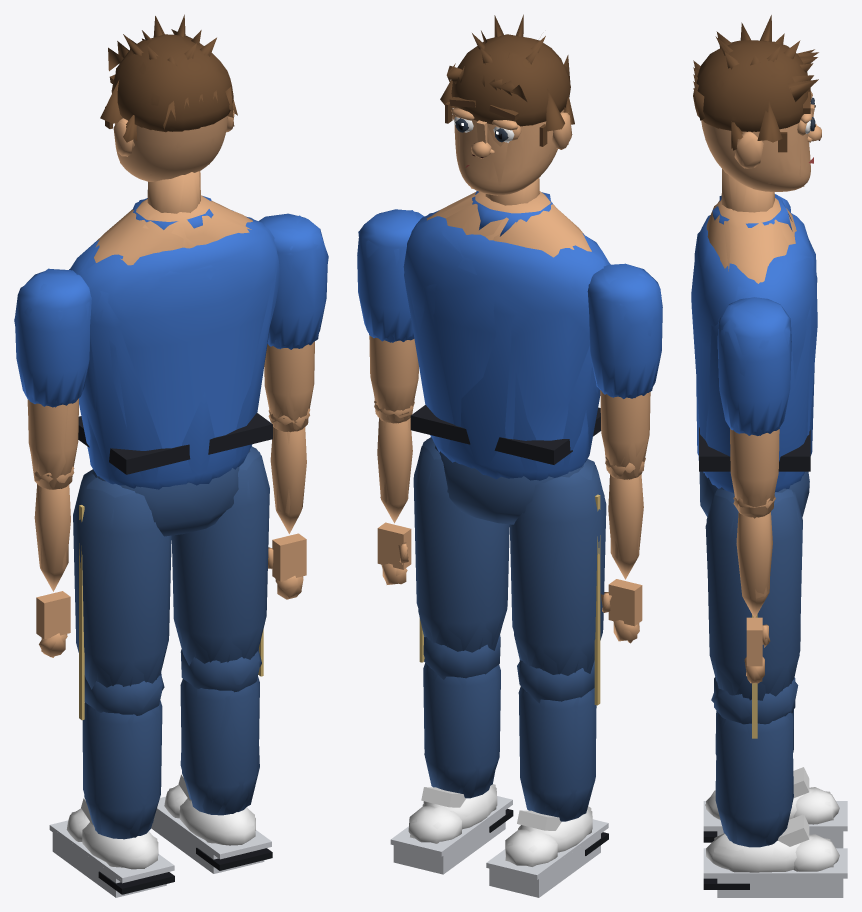
The model's file is char_default.glb.
3 renders of one model, left to right at view 1: azimuth 30°, elevation 25°; view 2: azimuth 150°, elevation 25°; view 3: azimuth 270°, elevation 25°, orthographic. The views are drawn at different scales.
Parts seen in each view (by area): view 1: lod_low, torso_tee, leg_L_pant, leg_R_pant, arm_L_sleeve, head_hair, shin_L_pant, shin_R_pant, arm_R_sleeve, torso_body, head_skull, torso_hips (+18 smaller); view 2: lod_low, torso_tee, leg_L_pant, leg_R_pant, arm_L_sleeve, shin_R_pant, head_hair, shin_L_pant, arm_R_sleeve, head_skull, torso_body, torso_hips (+16 smaller); view 3: lod_low, leg_R_pant, torso_tee, arm_R_sleeve, shin_R_pant, head_hair, head_skull, torso_body, shin_R_d_f2f2f2, arm_R_skin, forearm_R_skin, head_d_hair (+11 smaller).
Boxes of the visible parts, x1,y1,x2,y2 form: lod_low: (14, 14, 328, 897); torso_tee: (69, 210, 279, 489); leg_L_pant: (73, 469, 171, 686); leg_R_pant: (171, 447, 269, 662); arm_L_sleeve: (15, 269, 91, 407); head_hair: (111, 34, 233, 132); shin_L_pant: (83, 700, 162, 839); shin_R_pant: (180, 676, 259, 815); arm_R_sleeve: (258, 213, 327, 349); torso_body: (94, 195, 252, 265); head_skull: (115, 115, 227, 181); torso_hips: (92, 450, 250, 536); lod_low: (358, 15, 661, 897); torso_tee: (403, 210, 610, 480); leg_L_pant: (509, 465, 606, 674); leg_R_pant: (413, 439, 509, 650); arm_L_sleeve: (587, 263, 662, 398); shin_R_pant: (423, 663, 500, 798); head_hair: (451, 34, 570, 126); shin_L_pant: (518, 686, 596, 821); arm_R_sleeve: (357, 209, 424, 342); head_skull: (454, 107, 563, 195); torso_body: (427, 191, 591, 257); torso_hips: (435, 445, 583, 524); lod_low: (693, 15, 843, 897); leg_R_pant: (706, 491, 802, 700); torso_tee: (691, 212, 817, 492); arm_R_sleeve: (717, 297, 791, 435); shin_R_pant: (716, 711, 793, 847); head_hair: (693, 40, 811, 132); head_skull: (701, 120, 810, 191); torso_body: (707, 198, 795, 282); shin_R_d_f2f2f2: (706, 814, 839, 872); arm_R_skin: (730, 428, 779, 517); forearm_R_skin: (736, 512, 772, 618); head_d_hair: (693, 15, 818, 152).
Bounding box in the file's own units: 0.7454 × 1.96 × 0.3365.
